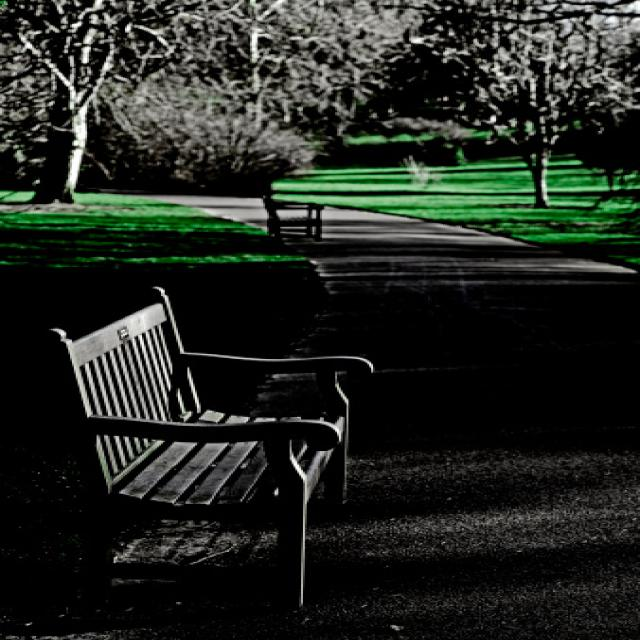chair: (49, 275, 404, 595), (251, 178, 346, 238)
